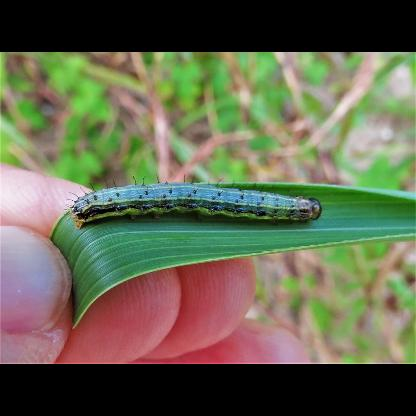Fall Armyworm Larvae: (60, 172, 326, 232)
